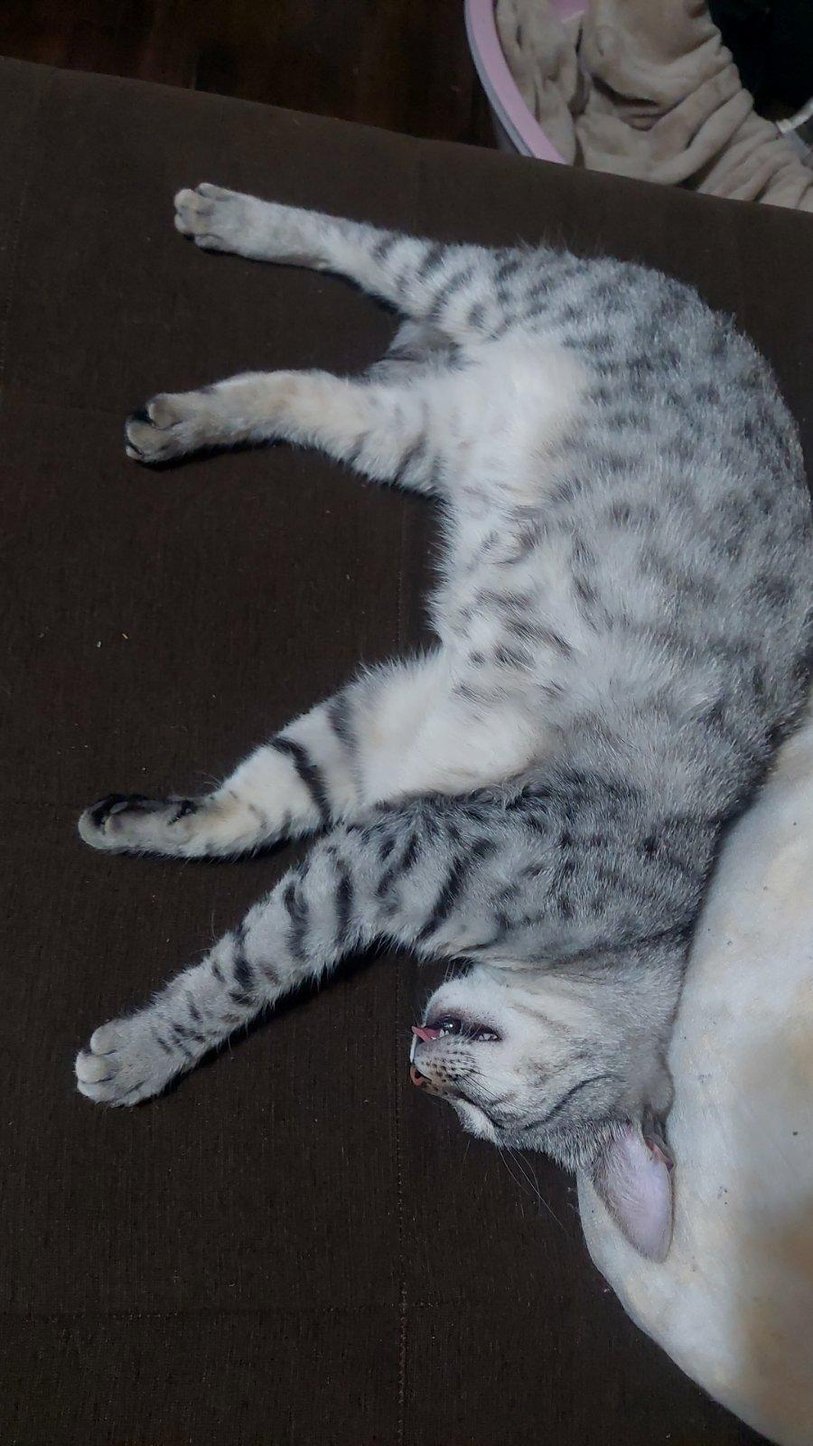macka: (70, 177, 812, 1266)
